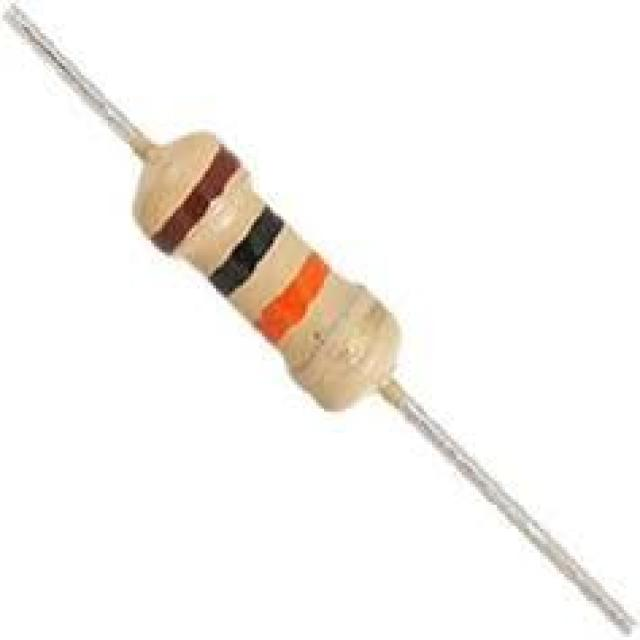Resistor: (132, 132, 424, 418)
black: (211, 202, 286, 306)
brown: (157, 148, 243, 258)
gold: (311, 298, 391, 411)
orange: (257, 250, 340, 351)
